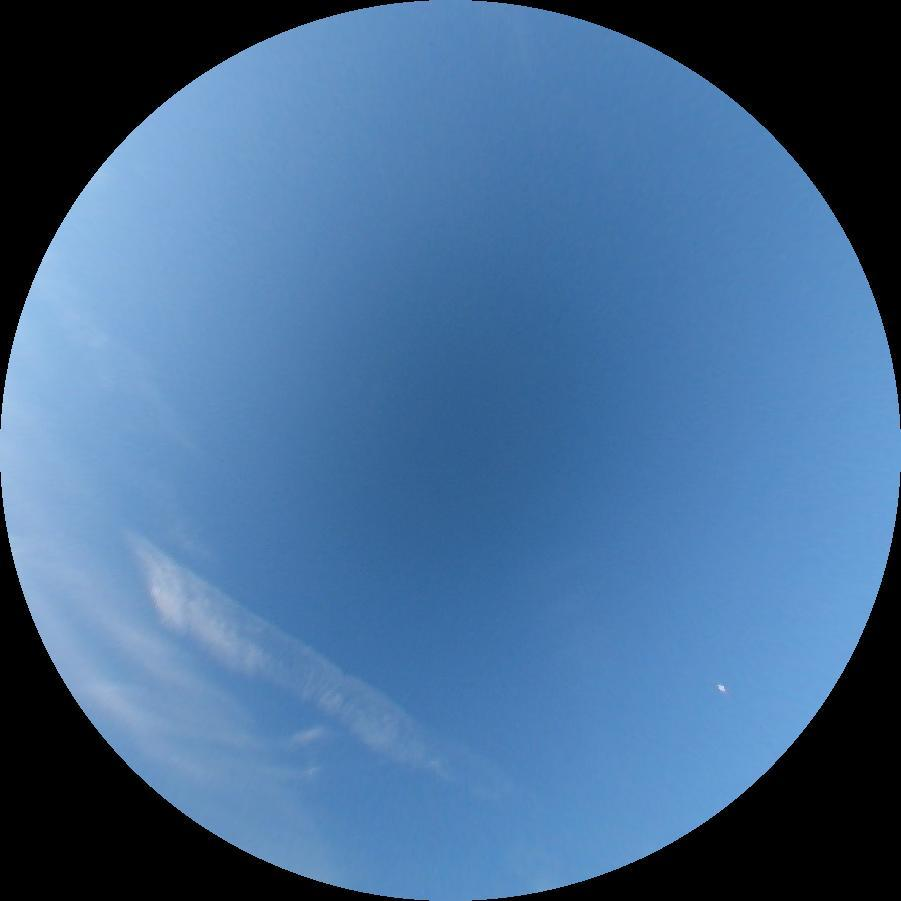contrail veryold: (91, 525, 522, 836)
